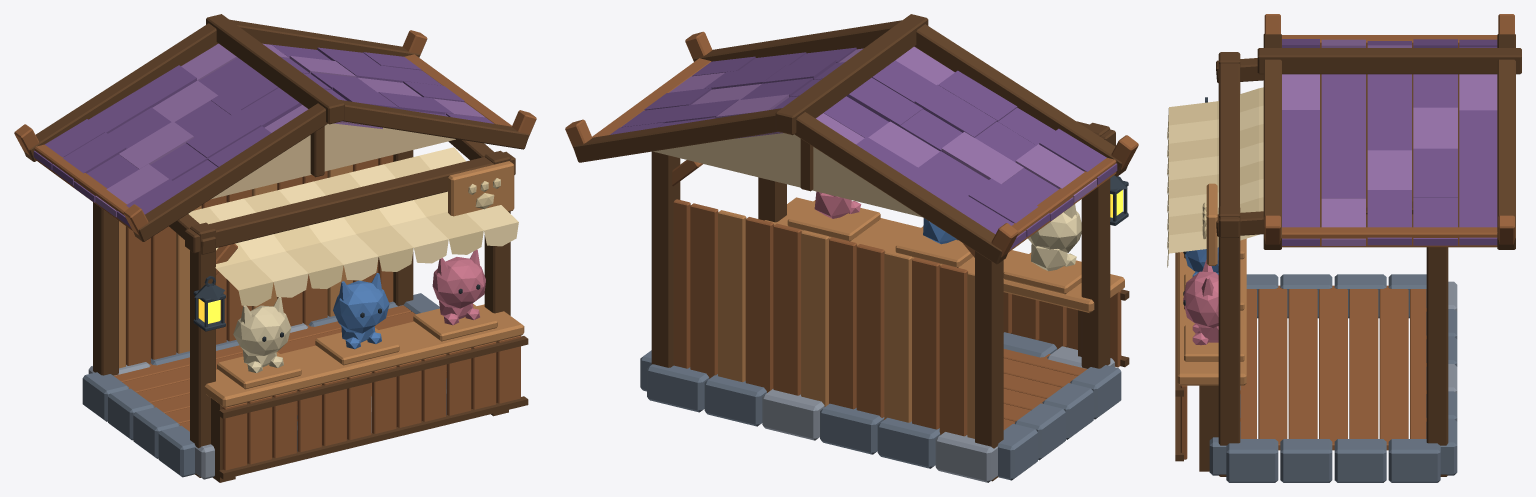
Rendered from PetKeeper.glb.
3 renders of one model, left to right at view 1: azimuth 30°, elevation 25°; view 2: azimuth 150°, elevation 25°; view 3: azimuth 270°, elevation 25°, orthographic. The views are drawn at different scales.
Parts seen in each view (by area): view 1: Merchant countertop, Market lintel, Plaster gable, Bargeboard, Market post.001, Market post, Ridge cap, Bargeboard.002, Bargeboard.001, Back planks.002, Back planks.001, Counter frame (+86 smaller); view 2: Plaster gable.001, Bargeboard.001, Market post.001, Market post, Market post.003, Back planks.008, Back planks.001, Back planks.004, Ridge cap, Bargeboard, Bargeboard.003, Back planks.006 (+64 smaller); view 3: Ridge cap, Market post.002, Market post.003, Market floorboard.001, Market floorboard.005, Market floorboard.002, Market floorboard.004, Market floorboard.003, Market lintel, Bargeboard.002, Bargeboard.003, Eave fascia.001 (+57 smaller).
Part boxes in pixels (x1,y1,x2,y2): Merchant countertop: [204, 304, 524, 407]; Market lintel: [185, 151, 515, 253]; Plaster gable: [211, 123, 455, 199]; Bargeboard: [133, 103, 327, 241]; Market post.001: [93, 202, 118, 375]; Market post: [190, 222, 215, 477]; Ridge cap: [206, 14, 344, 124]; Bargeboard.002: [339, 99, 529, 149]; Bargeboard.001: [24, 23, 218, 161]; Back planks.002: [151, 226, 176, 359]; Back planks.001: [126, 226, 150, 365]; Counter frame: [219, 396, 528, 479]; Plaster gable.001: [653, 133, 922, 217]; Bargeboard.001: [794, 112, 1007, 264]; Market post.001: [975, 251, 1003, 481]; Market post: [1081, 122, 1110, 368]; Market post.003: [651, 151, 680, 367]; Back planks.008: [745, 217, 773, 392]; Back planks.001: [939, 264, 967, 436]; Back planks.004: [856, 244, 884, 417]; Ridge cap: [775, 14, 928, 135]; Bargeboard: [914, 24, 1127, 176]; Bargeboard.003: [573, 108, 781, 162]; Back planks.006: [801, 230, 829, 406]; Ridge cap: [1257, 48, 1521, 74]; Market post.002: [1218, 206, 1240, 476]; Market post.003: [1426, 247, 1448, 476]; Market floorboard.001: [1258, 285, 1287, 450]; Market floorboard.005: [1379, 285, 1408, 450]; Market floorboard.002: [1288, 289, 1317, 438]; Market floorboard.004: [1349, 289, 1378, 438]; Market floorboard.003: [1319, 285, 1347, 450]; Market lintel: [1219, 52, 1239, 237]; Bargeboard.002: [1263, 59, 1281, 249]; Bargeboard.003: [1497, 59, 1515, 249]; Eave fascia.001: [1282, 227, 1497, 247].
Bounding box in the file's own units: 11.61 × 8.78 × 8.19.
